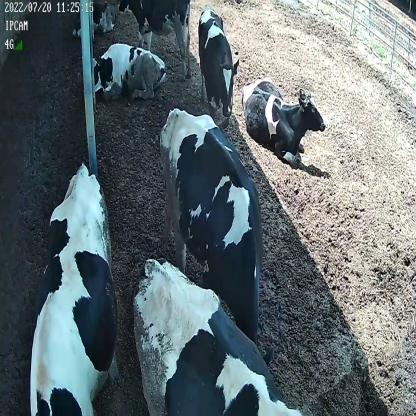cow: (158, 103, 277, 364), (132, 254, 302, 416), (26, 161, 118, 413), (240, 75, 325, 166), (116, 0, 194, 83), (197, 3, 240, 119), (88, 41, 167, 99)
